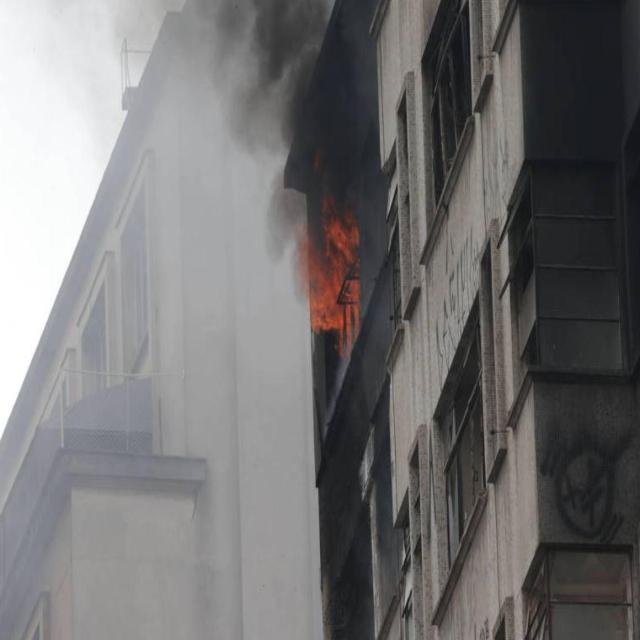Fire: (302, 193, 364, 356)
